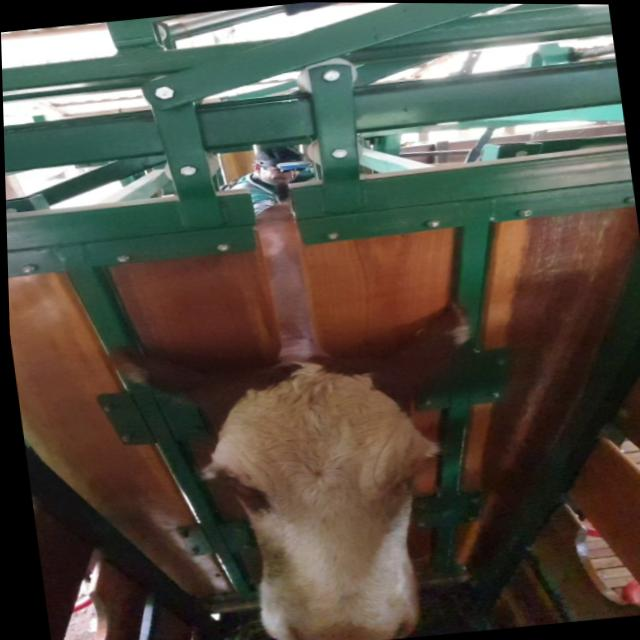cowFace: (200, 350, 448, 640)
